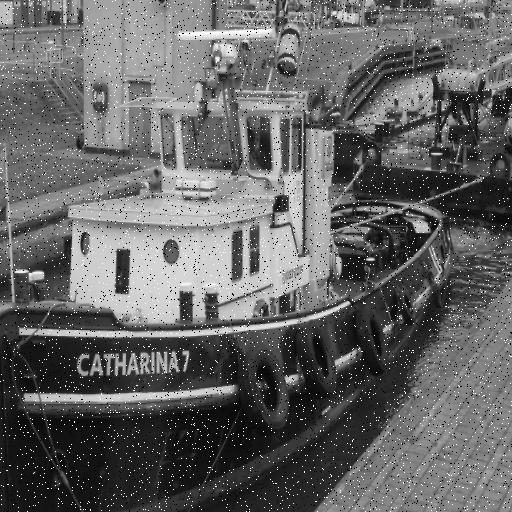tugboat: (1, 19, 461, 512)
